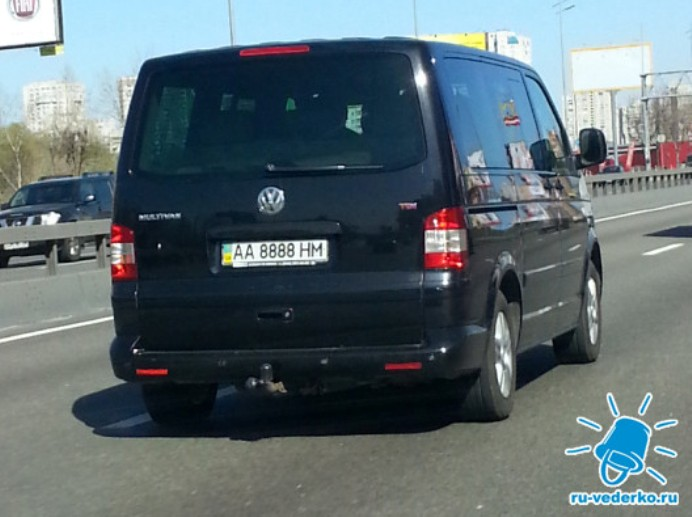car: (104, 37, 608, 420)
plate: (217, 239, 331, 265)
